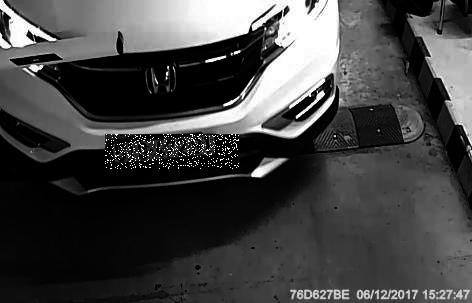License-plate: (107, 136, 241, 171)
